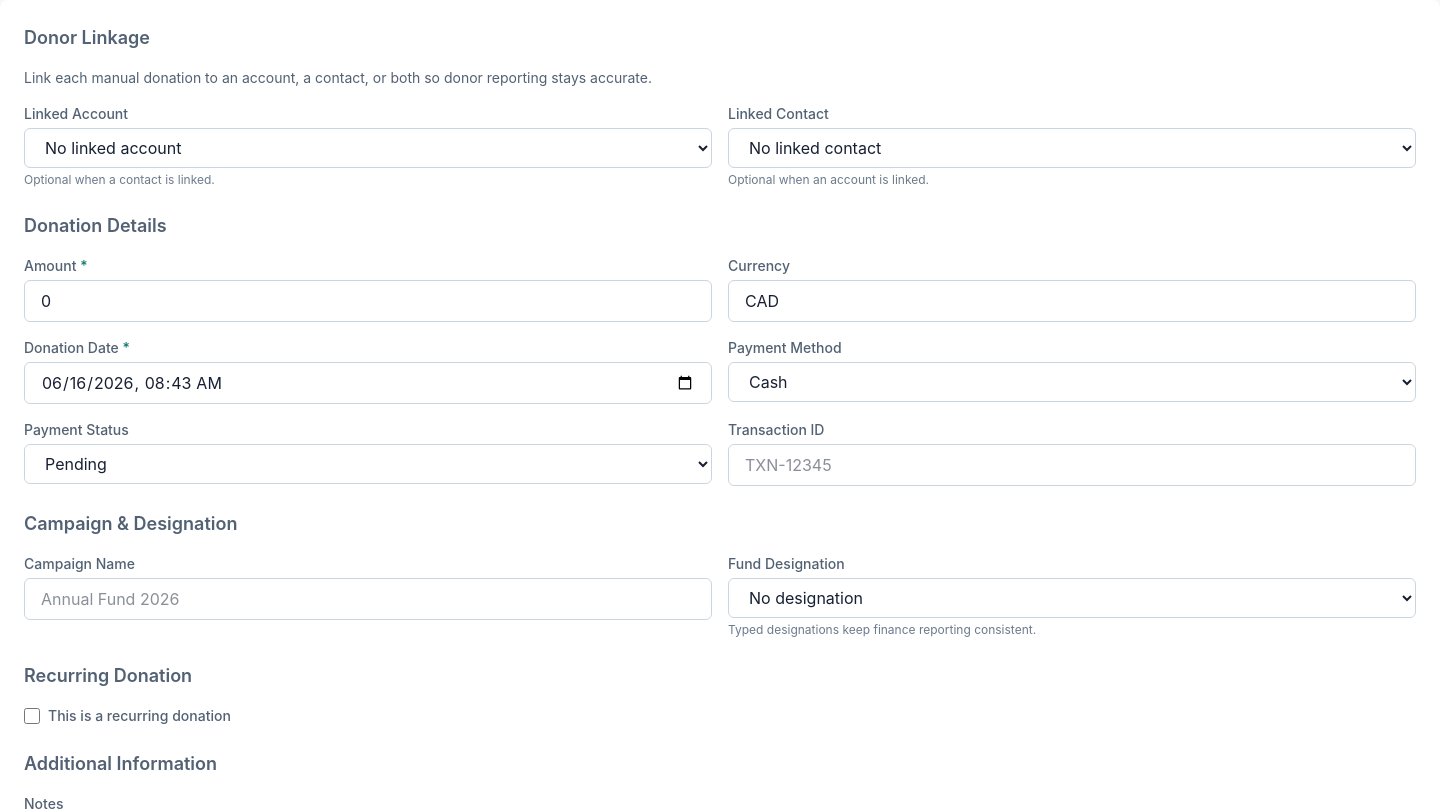
it: DonationForm › blocks submission when no donor linkage is selected
Step 1. Replace the text in the number field labelled "Amount *" with "75" → (368, 301), box [24,280,712,322]
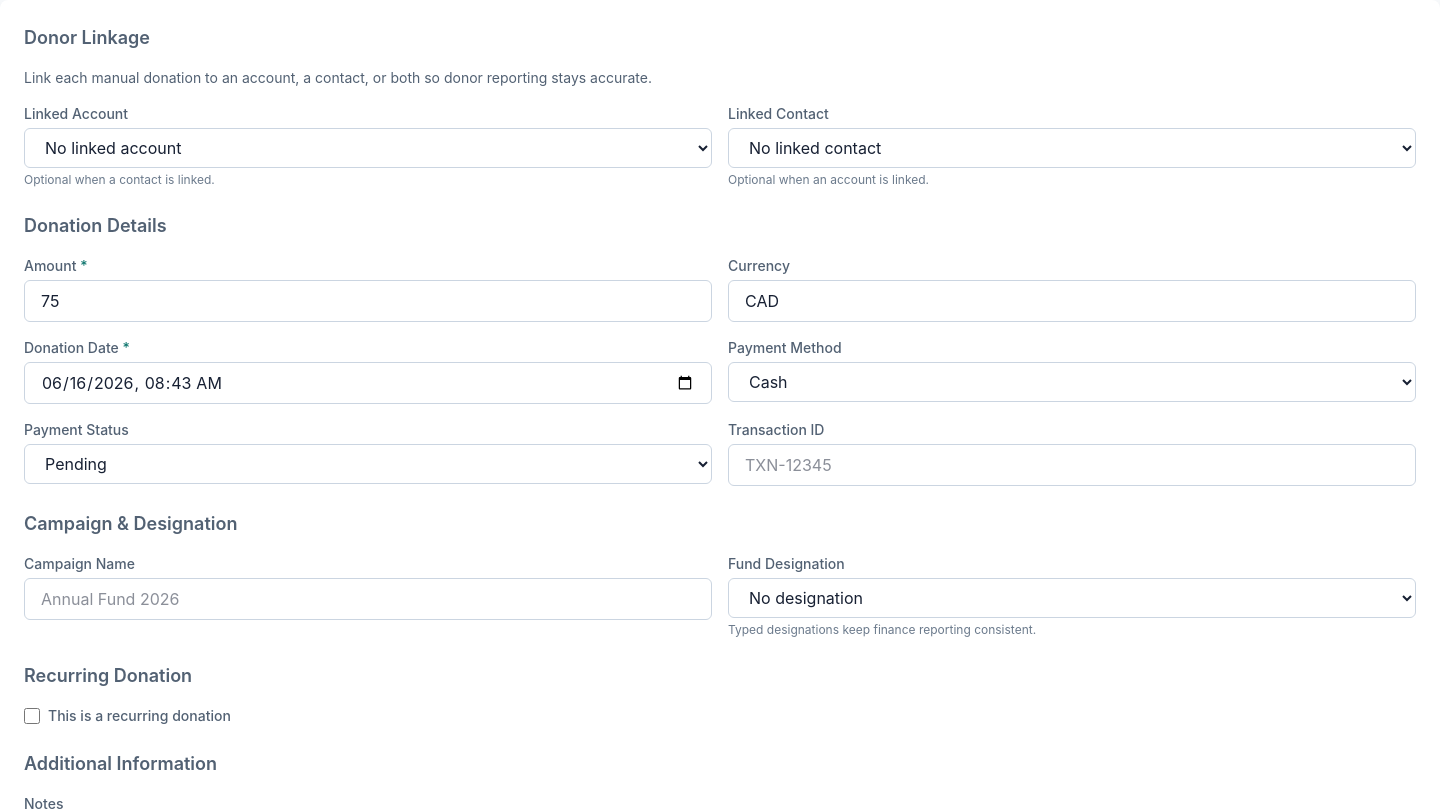
Step 2. Replace the text in the field labelled "Donation Date *" with "2026-04-18T10:30" → (368, 383), box [24,362,712,404]
(page scrolled)
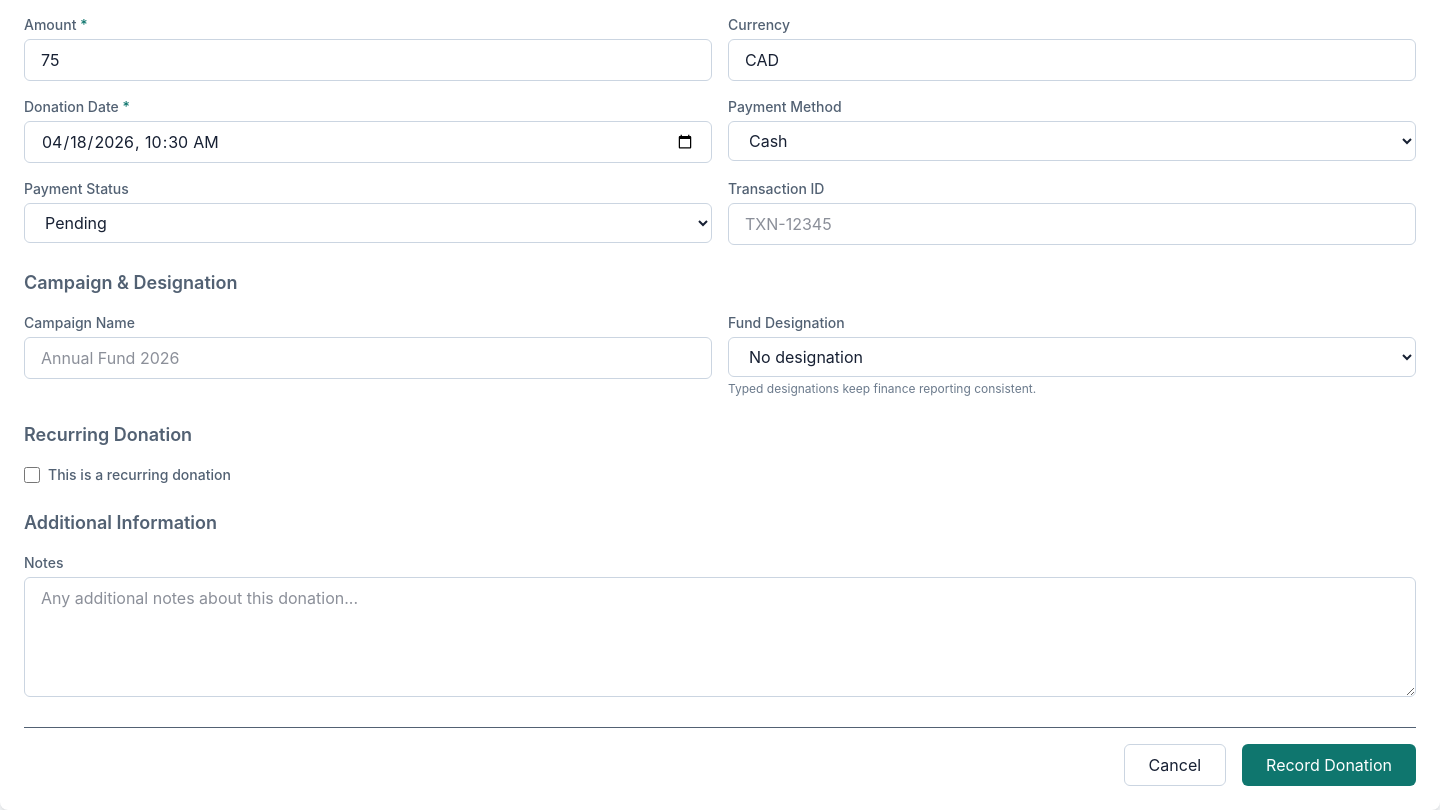
Step 3. Click the button "Record Donation" → (1329, 765), box [1242,744,1416,786]
(page scrolled)
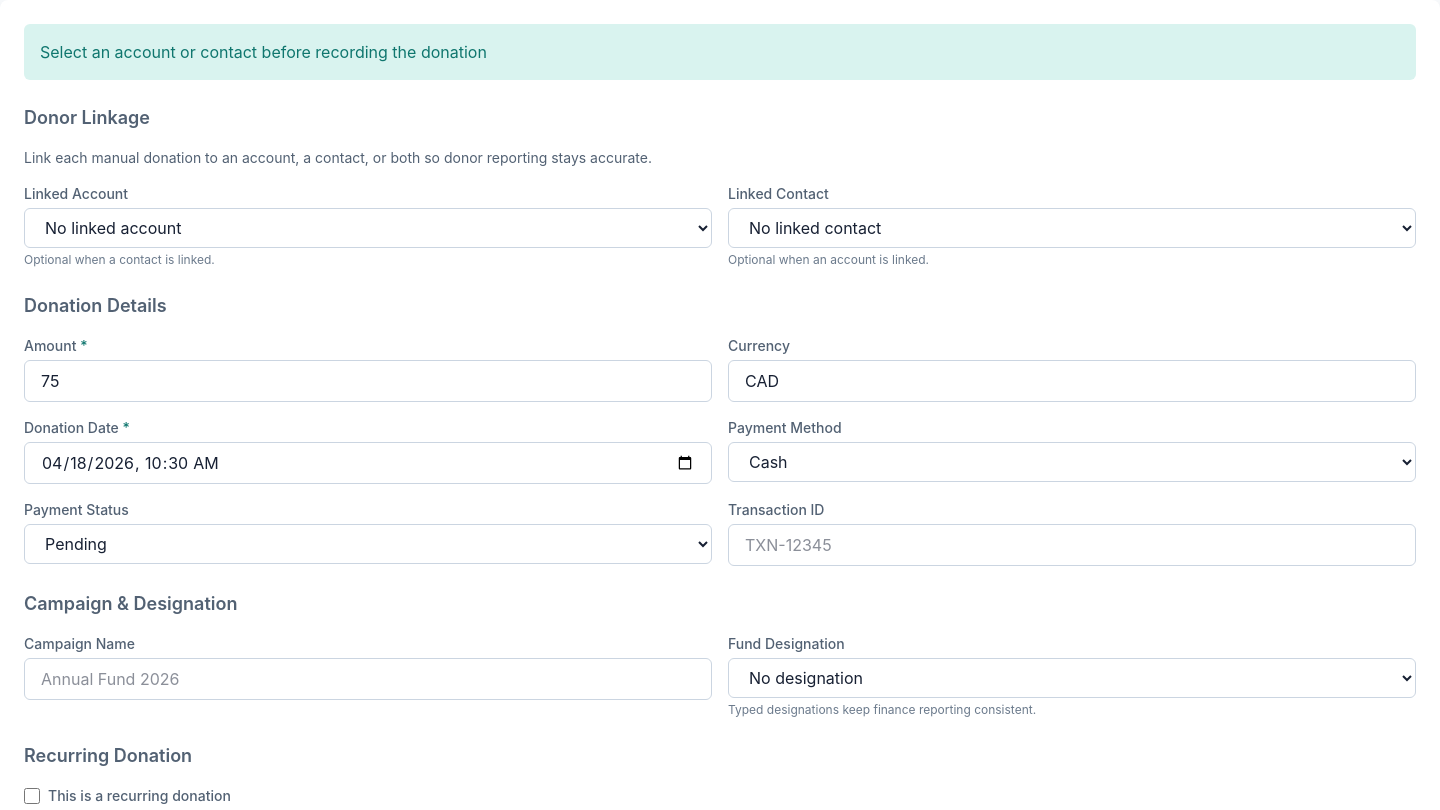
Now the text "Select an account or contact before recording the donation" is shown, box [24,24,1416,80]
